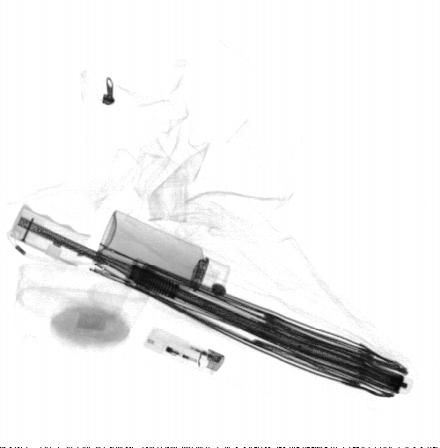Lighter: (142, 324, 226, 379)
Sprayer: (94, 209, 230, 302)
